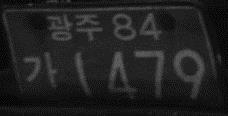1: (71, 50, 94, 102)
4: (105, 50, 139, 100), (138, 12, 163, 42)
7: (133, 48, 166, 101)
8: (111, 11, 136, 43)
9: (173, 48, 206, 102)
가: (22, 50, 61, 91)
광주_O: (45, 12, 103, 41)
